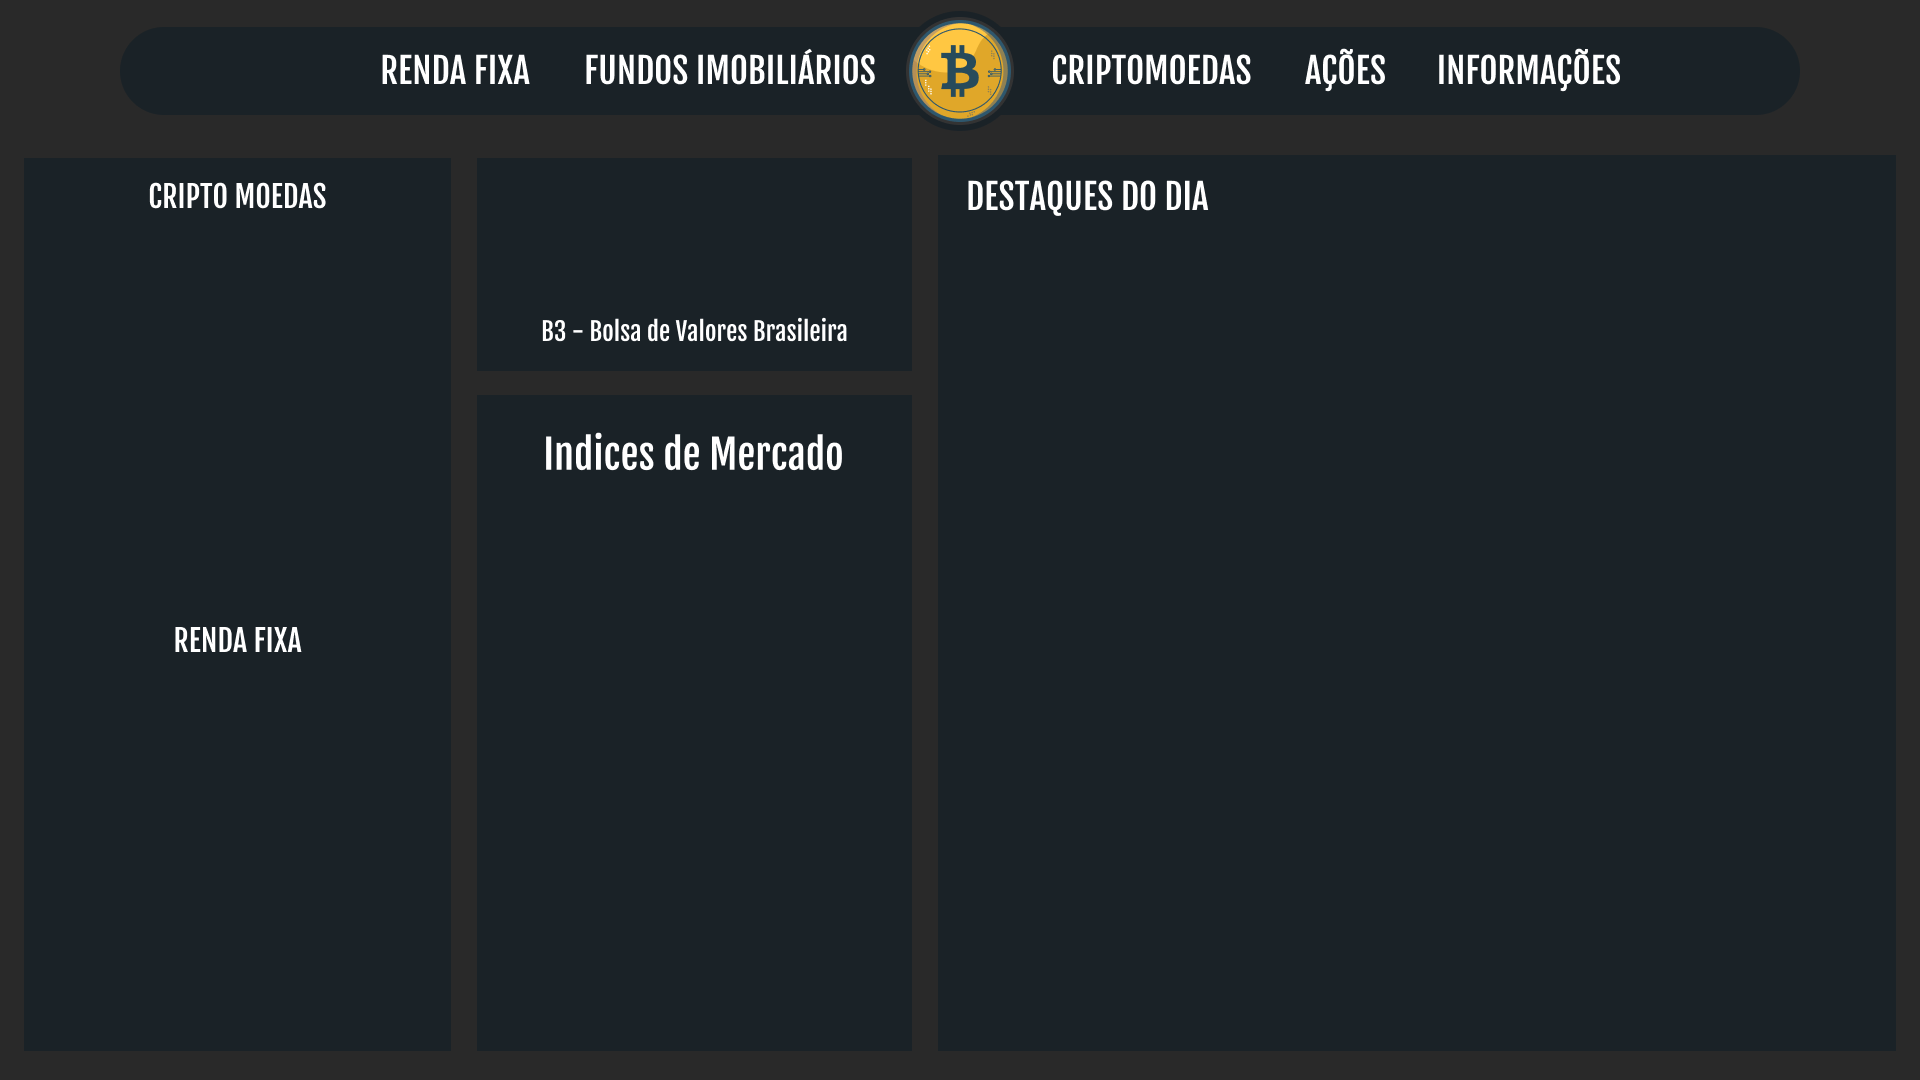

Layout of this report page (visuals, bound fields, positions):
{"tool":"powerbi","page":{"name":"Pagina Principal","canvas":[1920,1080],"ordinal":0},"visuals":[{"type":"multiRowCard","title":"Ativos com maior rentabilidade diária","fields":{"Values":["Descricao.Name","Descricao.Coluna","Sum(Descricao.Current Price)","Descricao.Variações de hoje"]},"box":[960,230,916,796],"z":0},{"type":"card","fields":{"Values":["Sum(Descricao.Current Price)"]},"box":[482,190,426,134],"z":1000},{"type":"card","fields":{"Values":["Sum(Descricao.Coluna)"]},"box":[764,166,144,48],"z":2000},{"type":"clusteredBarChart","fields":{"Y":["Sum(Descricao.Coluna)"],"Category":["Worksheet.Nome"]},"box":[482,472,426,572],"z":3000},{"type":"multiRowCard","title":"Títulos mais rentáveis","fields":{"Values":["Rentabilidade.Títulos","Rentabilidade.Compra","Rentabilidade.Vencimento.Variation.Hierarquia de datas.Ano","Sum(Rentabilidade.12 meses)"]},"box":[32,658,410,368],"z":4000},{"type":"multiRowCard","title":"Ativos com maior rentabilidade diária","fields":{"Values":["Descricao.Name","Sum(Descricao.Preço Atual)"]},"box":[32,214,410,360],"z":5000},{"type":"actionButton","box":[380,24,154,88],"z":6000},{"type":"actionButton","box":[572,24,320,88],"z":7000},{"type":"actionButton","box":[1034,24,238,88],"z":8000},{"type":"actionButton","box":[1272,24,146,88],"z":9000},{"type":"actionButton","box":[1418,24,218,88],"z":10000}]}

Visuals, with their boxes in screenshot pixels (x1, y1, x2, y2), scaled from the page's 1920x1080 canvas onto the 1920x1080 screenshot:
"Ativos com maior rentabilidade diária" multiRowCard: box=[960, 230, 1876, 1026]
card - Sum(Descricao.Current Price): box=[482, 190, 908, 324]
card - Sum(Descricao.Coluna): box=[764, 166, 908, 214]
clusteredBarChart - Sum(Descricao.Coluna) x Worksheet.Nome: box=[482, 472, 908, 1044]
"Títulos mais rentáveis" multiRowCard: box=[32, 658, 442, 1026]
"Ativos com maior rentabilidade diária" multiRowCard: box=[32, 214, 442, 574]
actionButton: box=[380, 24, 534, 112]
actionButton: box=[572, 24, 892, 112]
actionButton: box=[1034, 24, 1272, 112]
actionButton: box=[1272, 24, 1418, 112]
actionButton: box=[1418, 24, 1636, 112]
